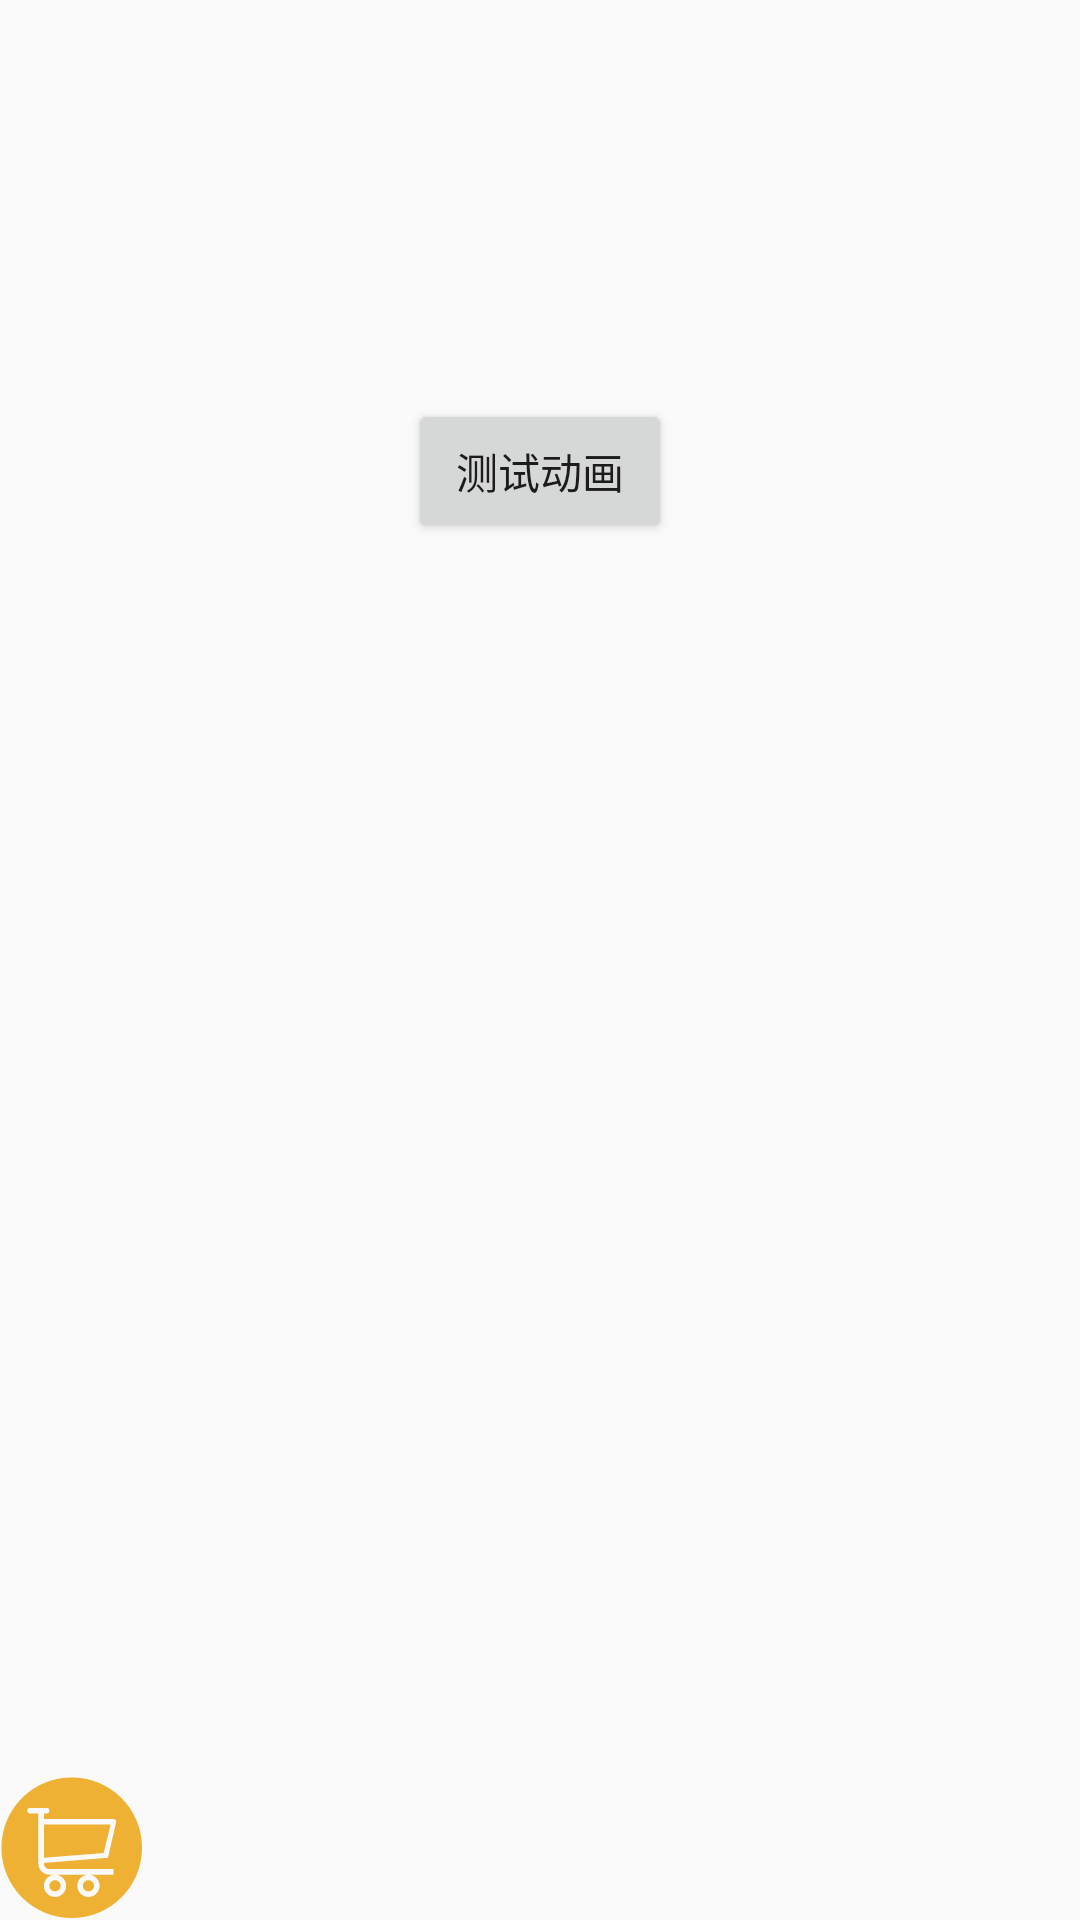

Named icons in this screenshot (1080 × 1920) and their bounding boxes, Rect(x1, y1, x2, y2):
shop detail cart: Rect(1, 1777, 142, 1918)
